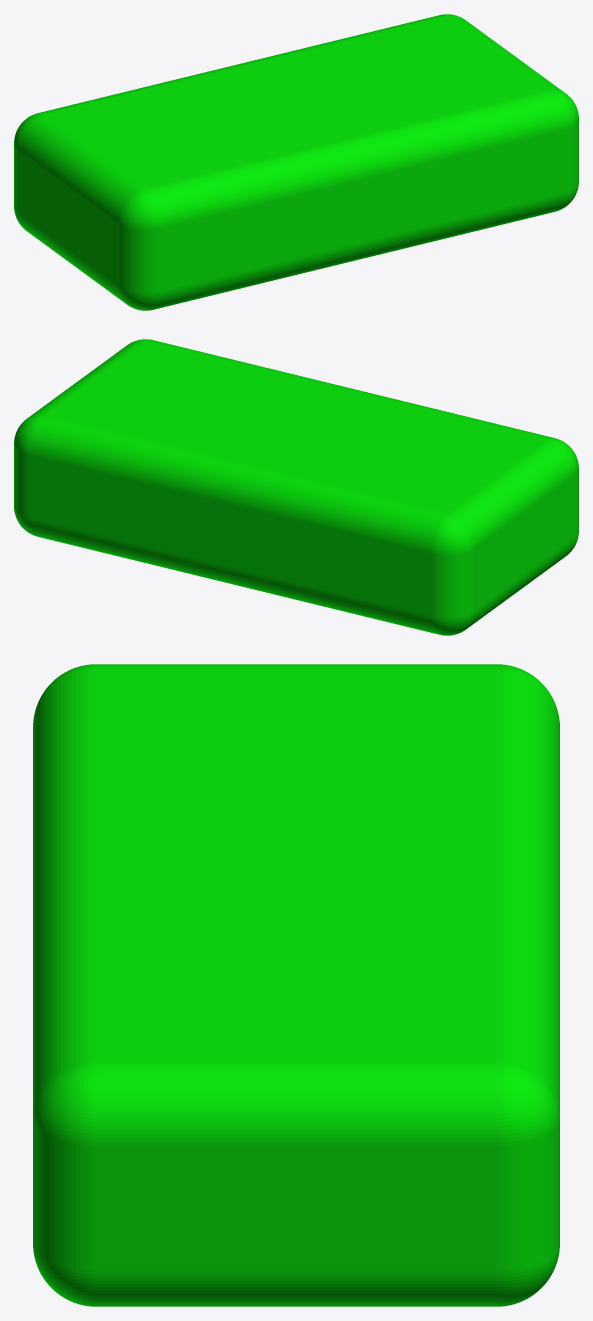
Rendered from BlockGreen.fbx.
3 views of the same model, one above another, from view 1: azimuth 30°, elevation 25°; view 2: azimuth 150°, elevation 25°; view 3: azimuth 270°, elevation 25° (orthographic). The views are drawn at different scales.
Parts seen in each view (by area): view 1: Cube.008; view 2: Cube.008; view 3: Cube.008.
Boxes of the visible parts, bbox=[...] form: Cube.008: bbox=[14, 14, 578, 310]; Cube.008: bbox=[14, 339, 578, 635]; Cube.008: bbox=[33, 664, 559, 1306].
Size of the model in its own units: 4 by 1 by 2.
